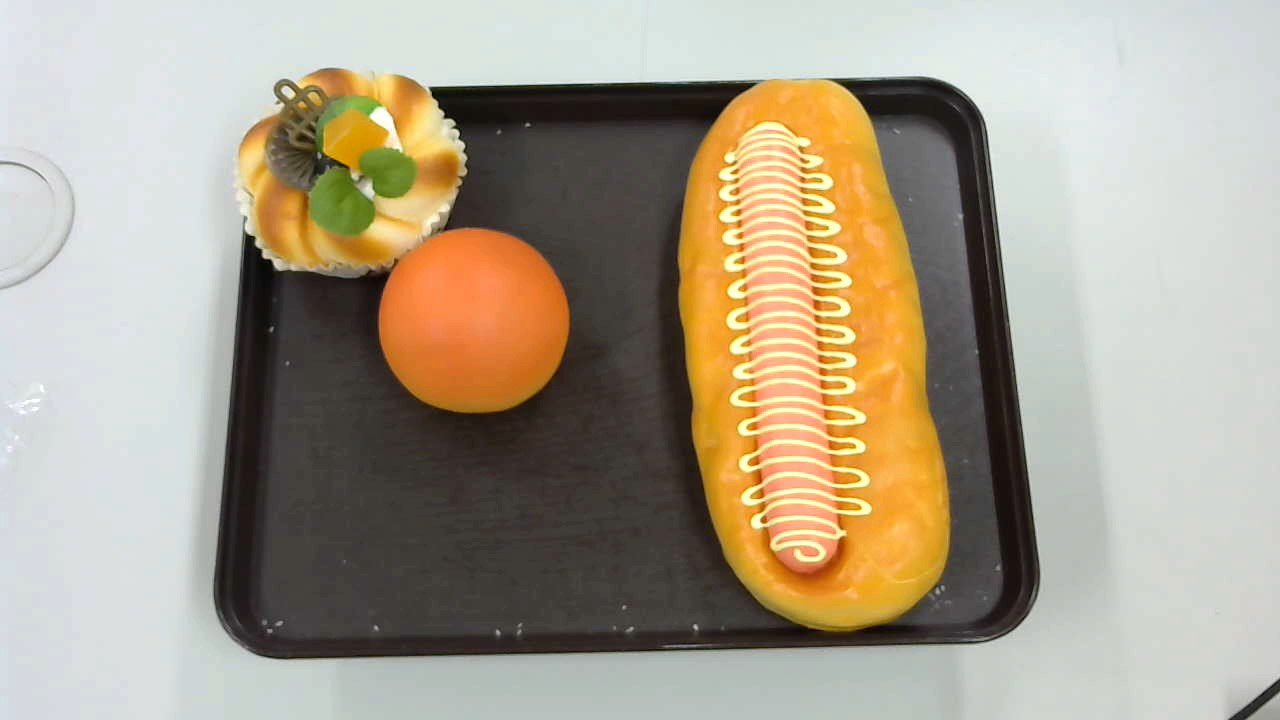bun: (377, 227, 571, 412)
fruit tart: (230, 67, 469, 276)
hot dog: (676, 80, 952, 633)
